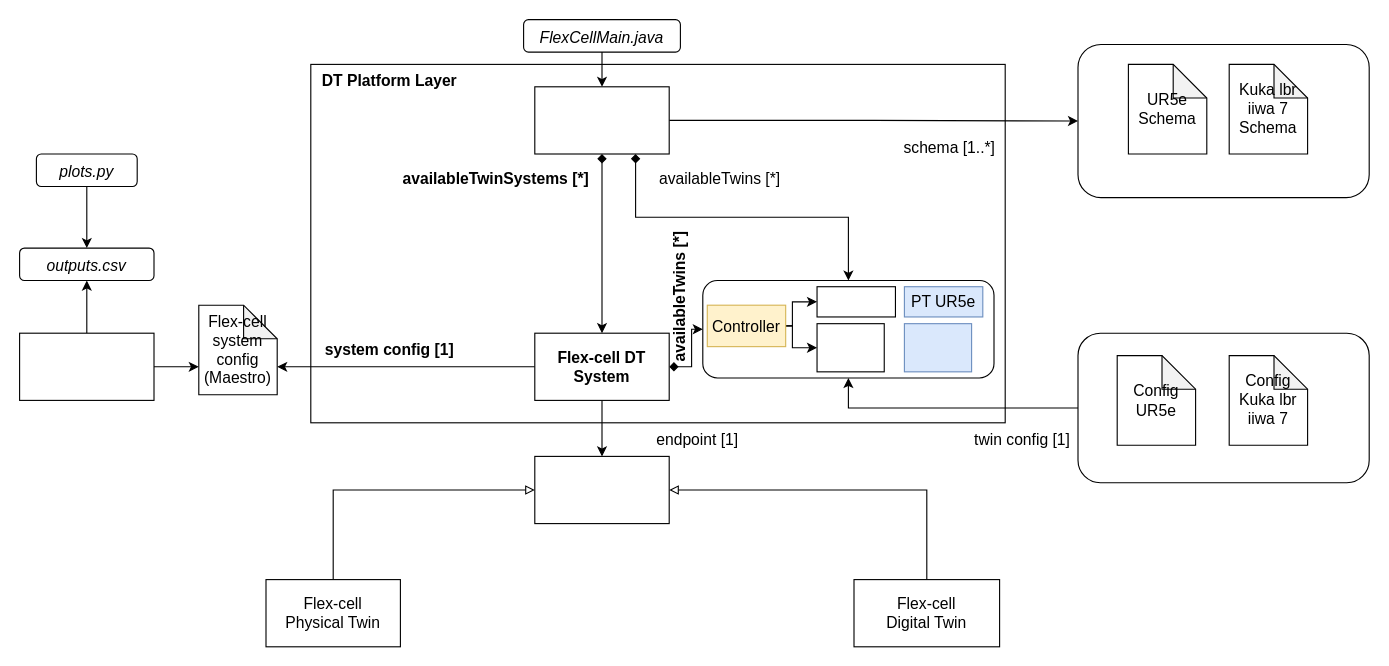
This 1389x666 diagram has some shape labels left out. The centre of each missing label's shape, as x and y in pixels:
"DT Kuka lbr iiwa 7" belongs at (850,347).
"DT UR5e" belongs at (855,301).
"DTManager" belongs at (601,120).
"Endpoint" belongs at (601,489).
"Maestro" belongs at (86,366).
"PT Kuka lbr iiwa 7" belongs at (937,347).
